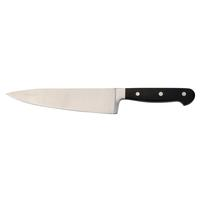knife: (4, 76, 196, 119)
